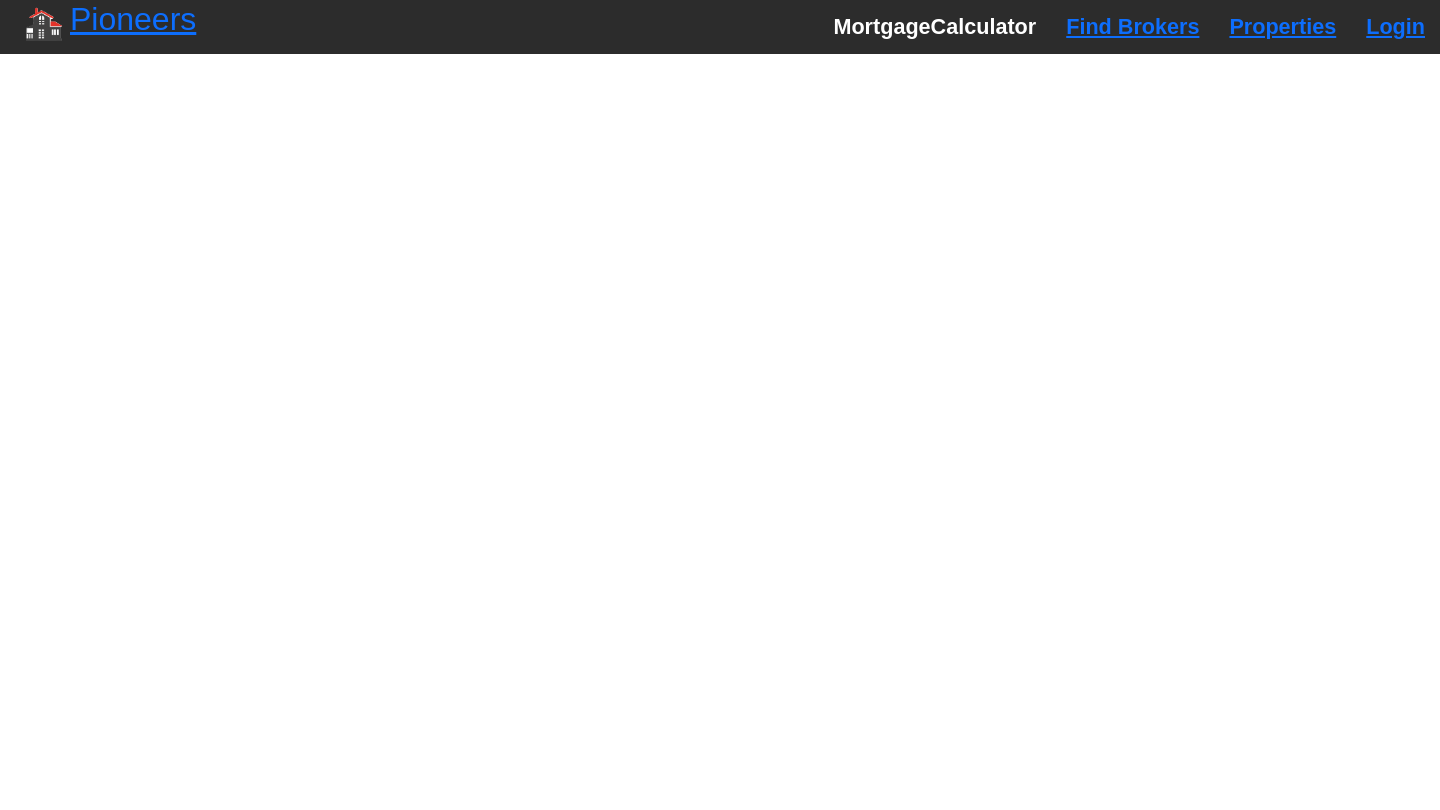
Test: Clicking MortgageCalculator opens the popup
Click the "MortgageCalculator" link
Click the list item with test id "MortgageCalculator" at (935,27), box [833,11,1036,43]
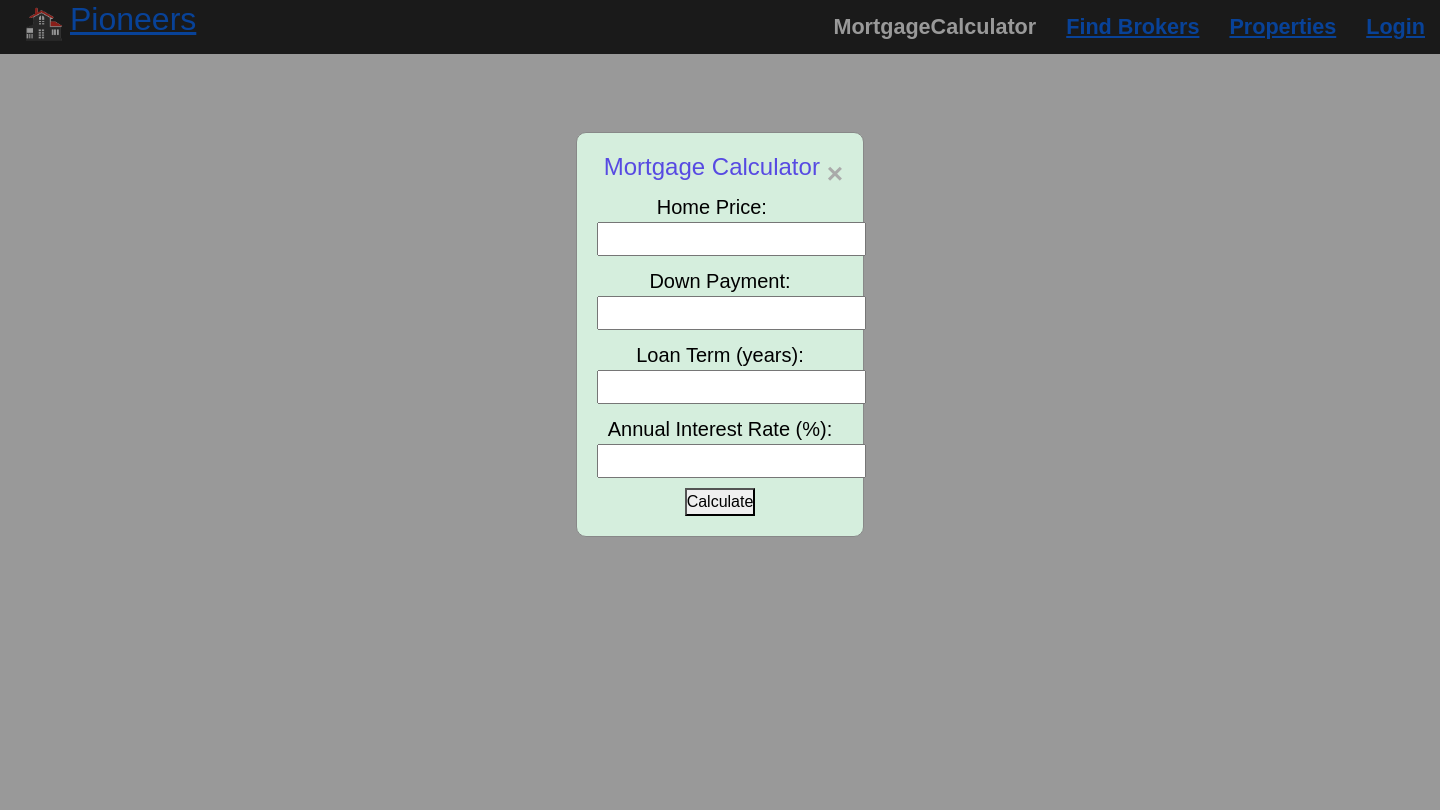
Result: the element with test id "MortgageCalculatorPopup" is shown
